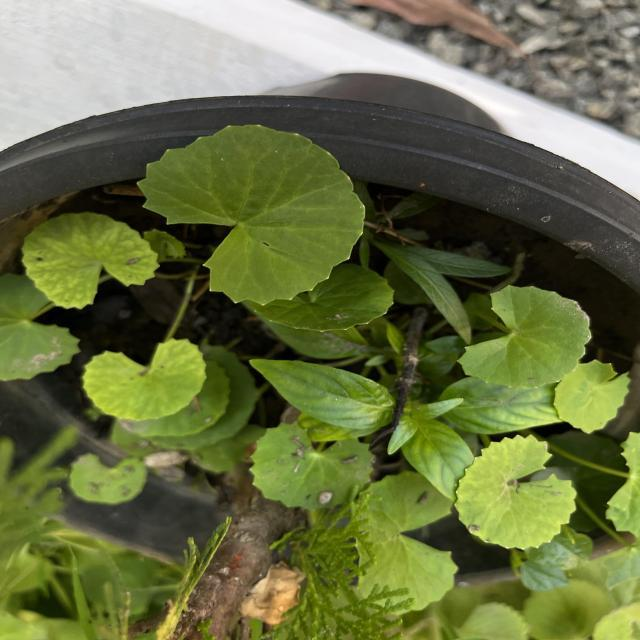Centella asiatica: (132, 120, 370, 310), (452, 282, 598, 393), (452, 430, 582, 554)
